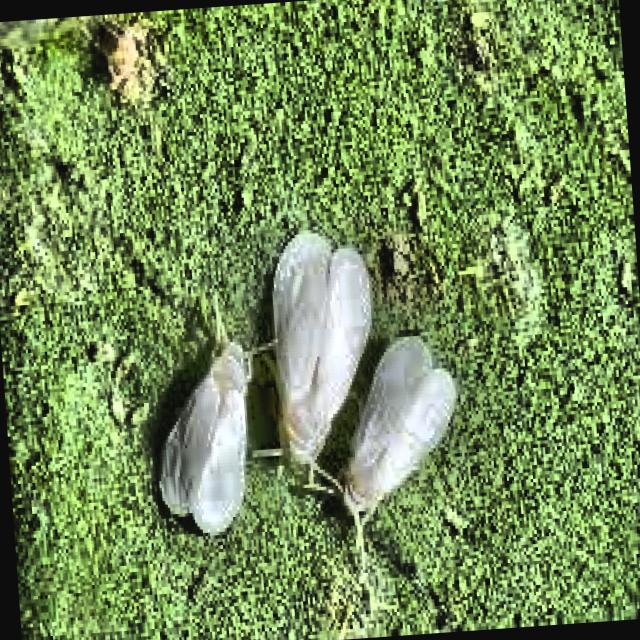whitefly: (271, 230, 370, 460), (339, 335, 453, 518), (157, 341, 247, 532)
